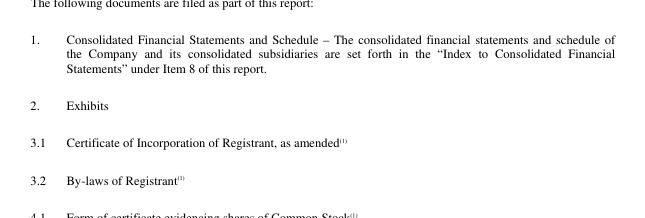table: (29, 29, 614, 187)
table column: (55, 29, 614, 187), (29, 29, 55, 187)
table row: (29, 29, 614, 85), (29, 122, 614, 160), (29, 85, 614, 122), (29, 160, 614, 187)
